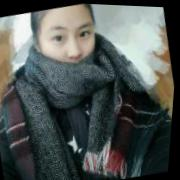WRONG: (33, 11, 107, 87)
